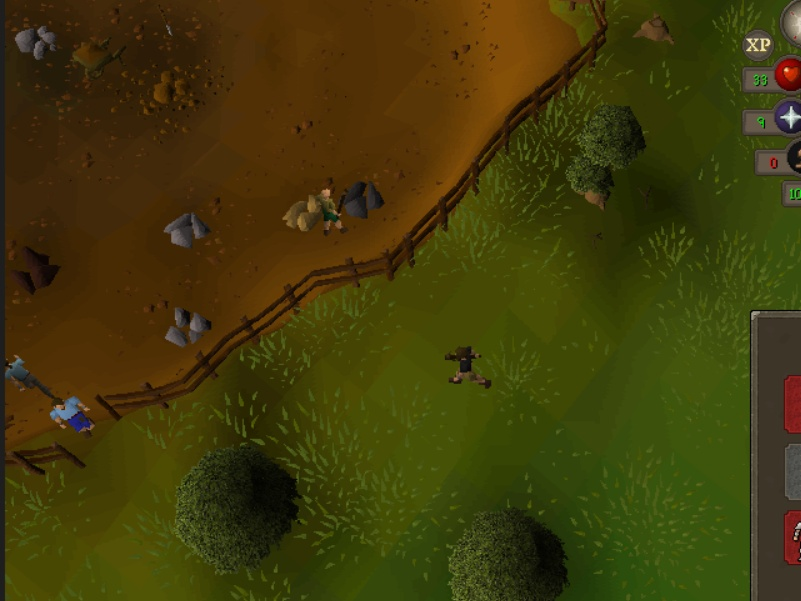clay: (279, 193, 332, 233)
iron: (1, 243, 68, 296)
tin: (163, 301, 215, 352), (160, 205, 212, 256)
